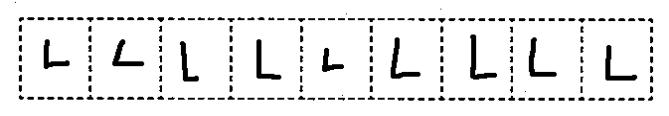L: (383, 32, 424, 86), (246, 34, 288, 86), (461, 31, 500, 83), (524, 33, 563, 84), (596, 41, 640, 86), (36, 32, 78, 74), (174, 37, 209, 87), (106, 36, 148, 75), (314, 42, 352, 84)
